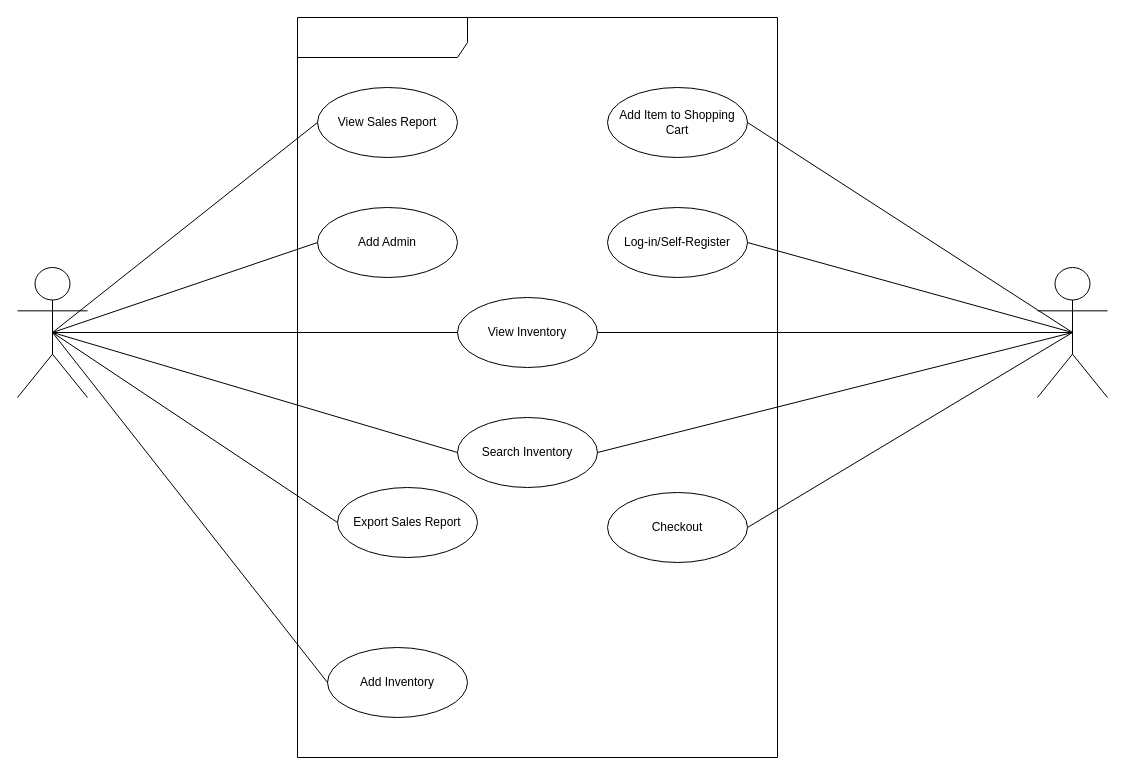
Image size: 1125x775. Some labels were removed from this diagram. Each missing label, with the centre of its shape:
Admin: point (52, 332)
Eternal Elixers: point (537, 387)
User: point (1072, 332)
